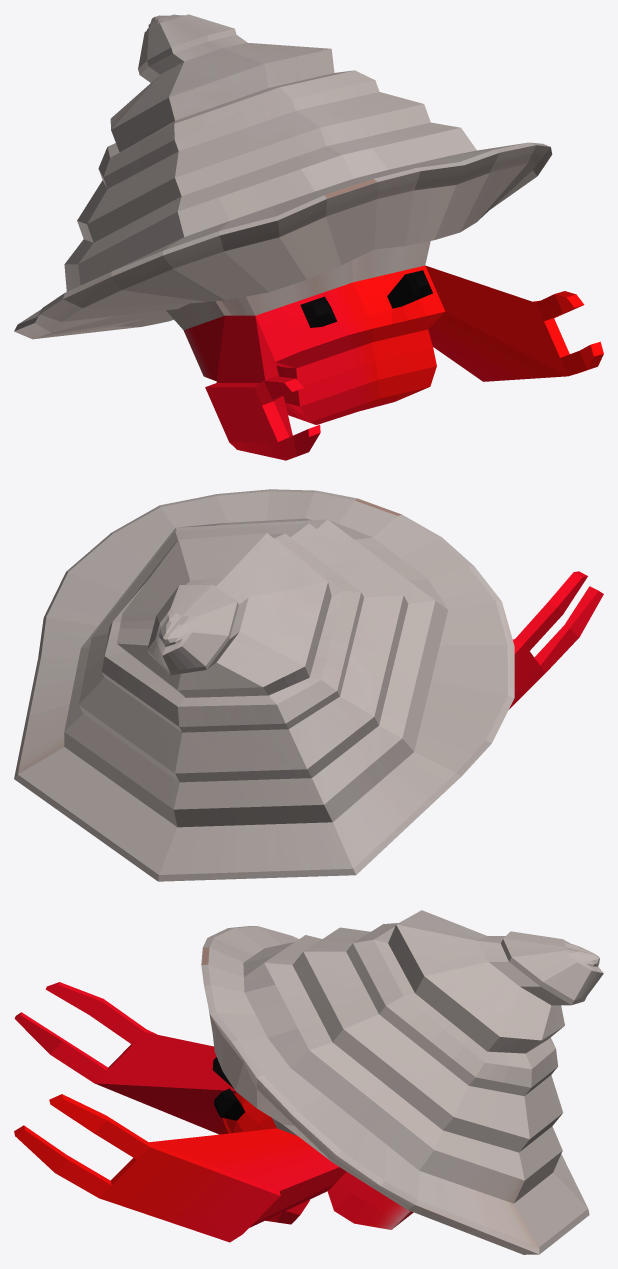
The model's file is HermitCrab.fbx.
The picture shows the model from 3 angles, top to bottom: view 1: azimuth 30°, elevation 25°; view 2: azimuth 150°, elevation 25°; view 3: azimuth 270°, elevation 25°; orthographic projection. The views are drawn at different scales.
Parts seen in each view (by area): view 1: HermitCrab; view 2: HermitCrab; view 3: HermitCrab.
Boxes of the visible parts, x1,y1,x2,y2 form: HermitCrab: (14, 14, 603, 460); HermitCrab: (14, 489, 603, 881); HermitCrab: (14, 910, 603, 1254).
Size of the model in its own units: 2.68 by 1.63 by 3.04.
